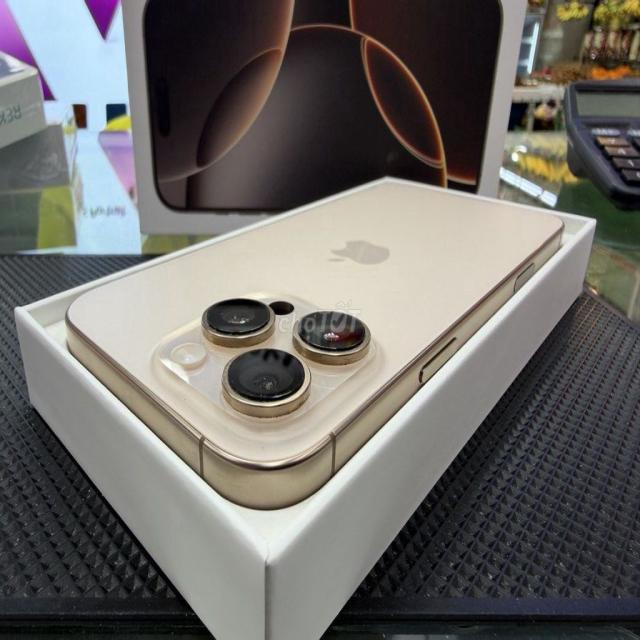gen_16: (57, 175, 563, 507)
